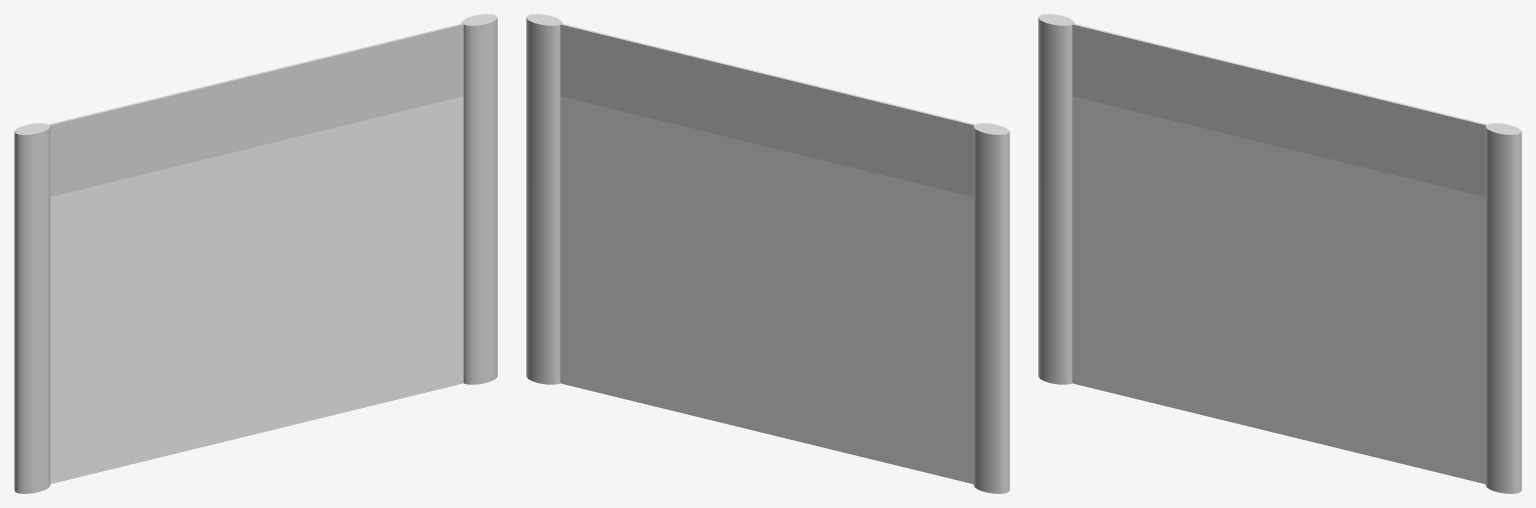
File: multiplier-green-gate.fbx
3 renders of one model, left to right at view 1: azimuth 30°, elevation 25°; view 2: azimuth 150°, elevation 25°; view 3: azimuth 330°, elevation 25°, orthographic.
Visible parts, largest first — view 1: multiplier-gate, upper-plane, cylinder-R, cylinder-L; view 2: multiplier-gate, upper-plane, cylinder-R, cylinder-L; view 3: multiplier-gate, upper-plane, cylinder-L, cylinder-R.
Boxes of the visible parts, x1=… form: multiplier-gate: x1=50, y1=96, x2=463, y2=484; upper-plane: x1=40, y1=21, x2=471, y2=196; cylinder-R: x1=14, y1=123, x2=50, y2=493; cylinder-L: x1=461, y1=14, x2=497, y2=384; multiplier-gate: x1=560, y1=96, x2=973, y2=484; upper-plane: x1=552, y1=21, x2=974, y2=196; cylinder-R: x1=973, y1=123, x2=1009, y2=493; cylinder-L: x1=526, y1=14, x2=562, y2=384; multiplier-gate: x1=1072, y1=96, x2=1485, y2=484; upper-plane: x1=1064, y1=21, x2=1495, y2=196; cylinder-L: x1=1485, y1=123, x2=1521, y2=493; cylinder-R: x1=1038, y1=14, x2=1074, y2=384.
Size of the model in its own units: 4.36 by 3.11 by 0.183.
